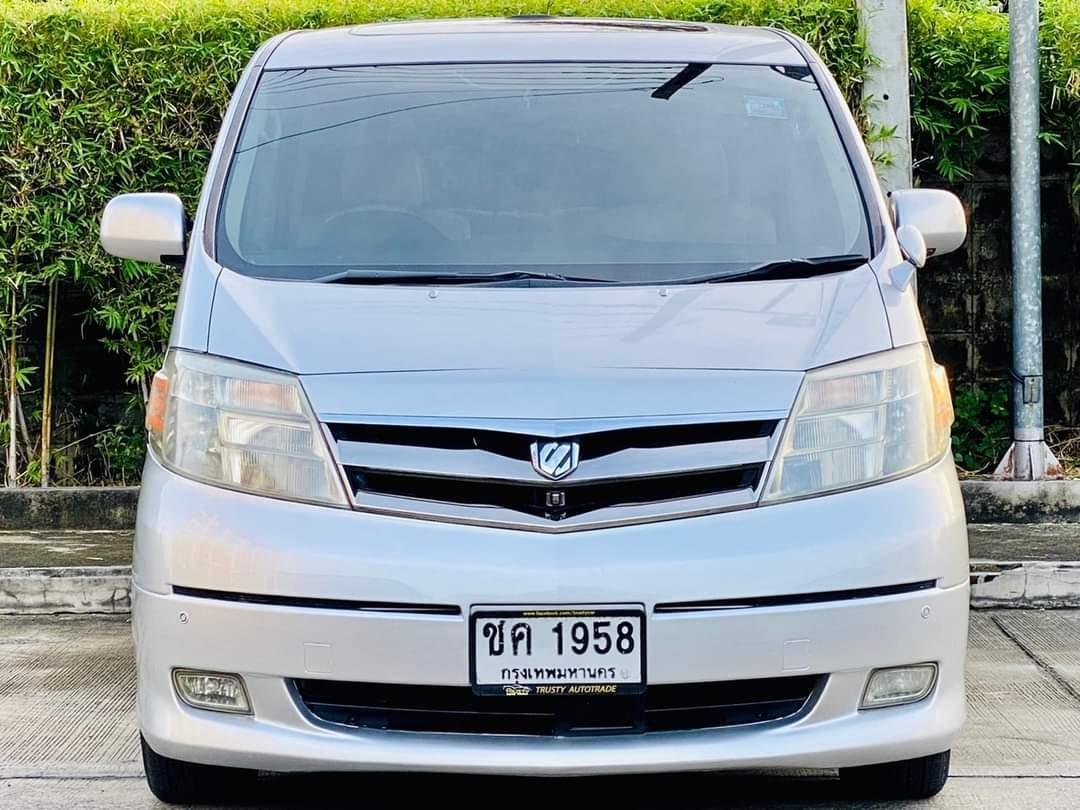license-plate: (468, 609, 650, 700)
